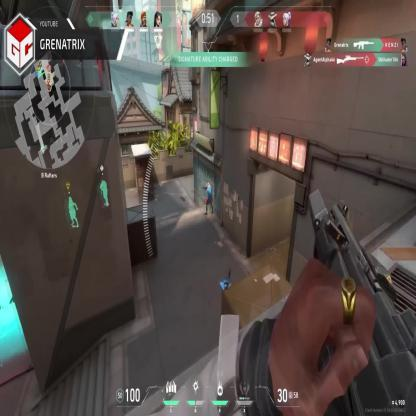enemy: (204, 180, 213, 216)
enemy_head: (207, 182, 210, 187)
